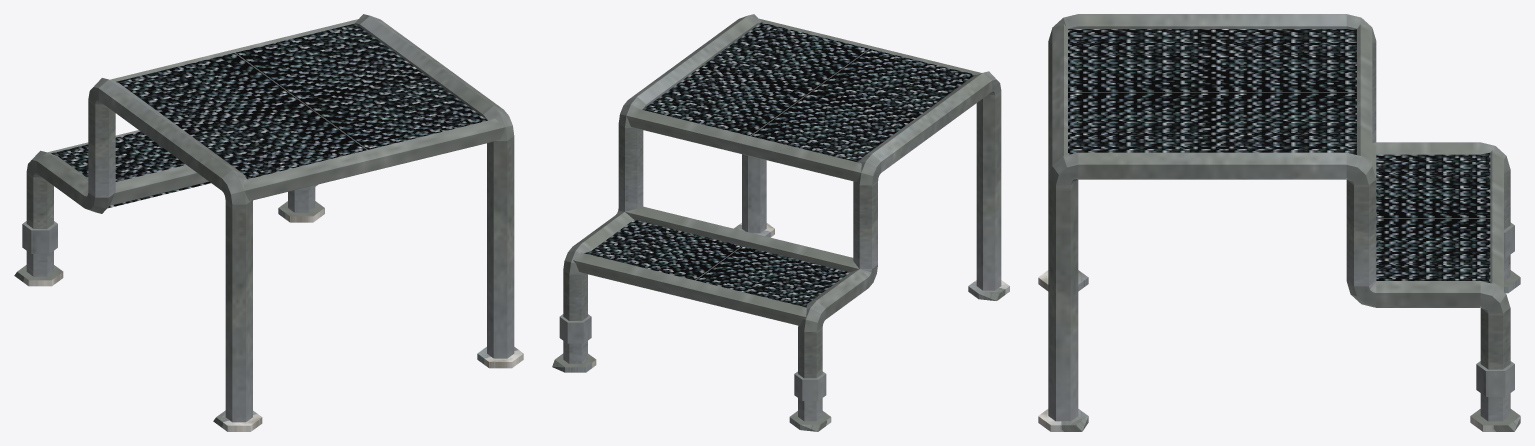
The model's file is StartingBlock02.obj.
3 renders of one model, left to right at view 1: azimuth 30°, elevation 25°; view 2: azimuth 150°, elevation 25°; view 3: azimuth 270°, elevation 25°, orthographic. The views are drawn at different scales.
Parts seen in each view (by area): view 1: StartingBlock02; view 2: StartingBlock02; view 3: StartingBlock02.
Boxes of the visible parts, box(x1,y1,x2,y2) form: StartingBlock02: box(14, 14, 523, 431); StartingBlock02: box(552, 14, 1009, 431); StartingBlock02: box(1038, 14, 1520, 431).
Size of the model in its own units: 0.9348 by 0.75 by 1.21.
